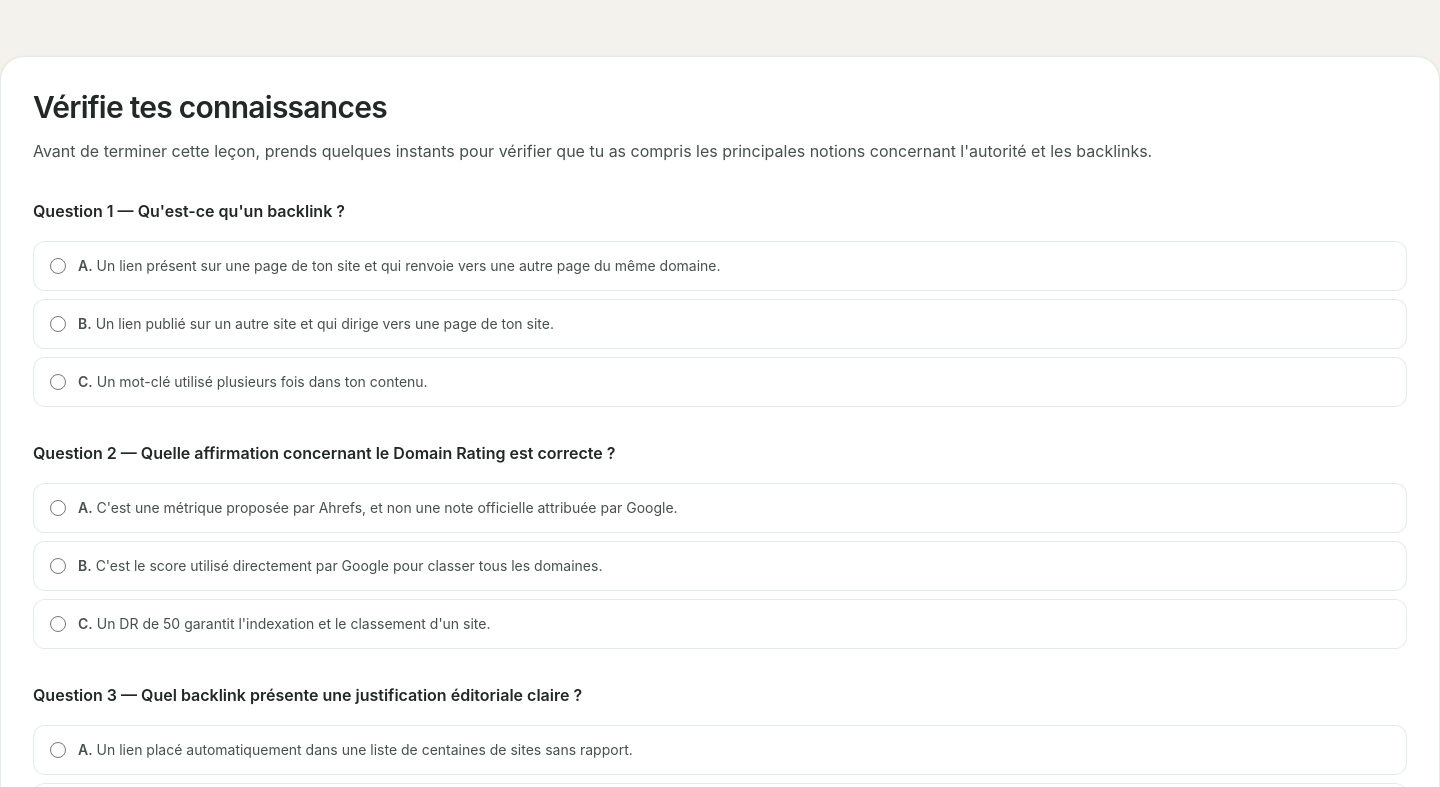
Test: questionnaire de la vingtième leçon SEO › corrige les quatre réponses après validation
Expected: the text "Question 4 : B." is not shown
Click the radio button named "quiz-question-1". click: (58, 324)
box: [50, 316, 66, 332]
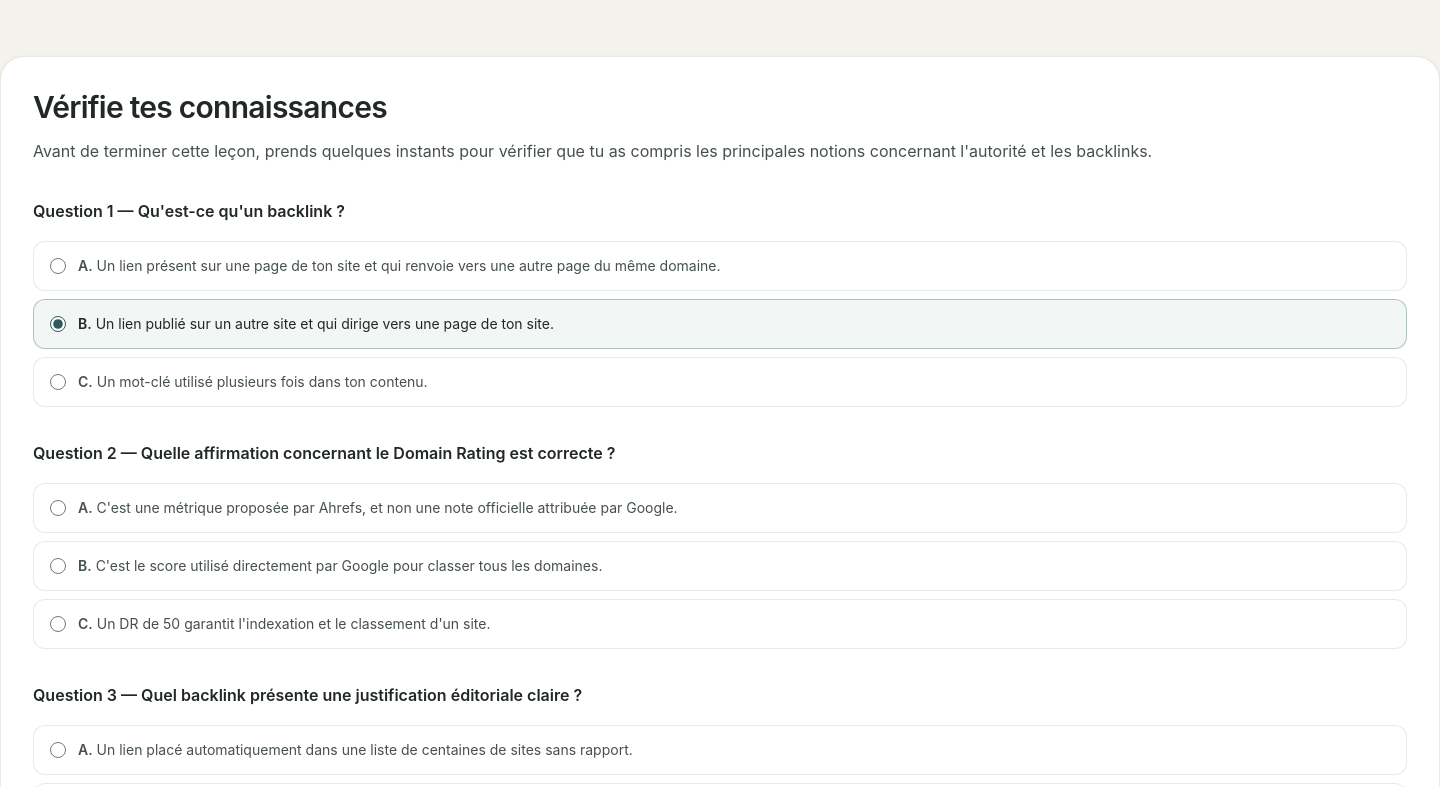
Click the radio button named "quiz-question-2". click: (58, 508)
box: [50, 500, 66, 516]
(page scrolled)
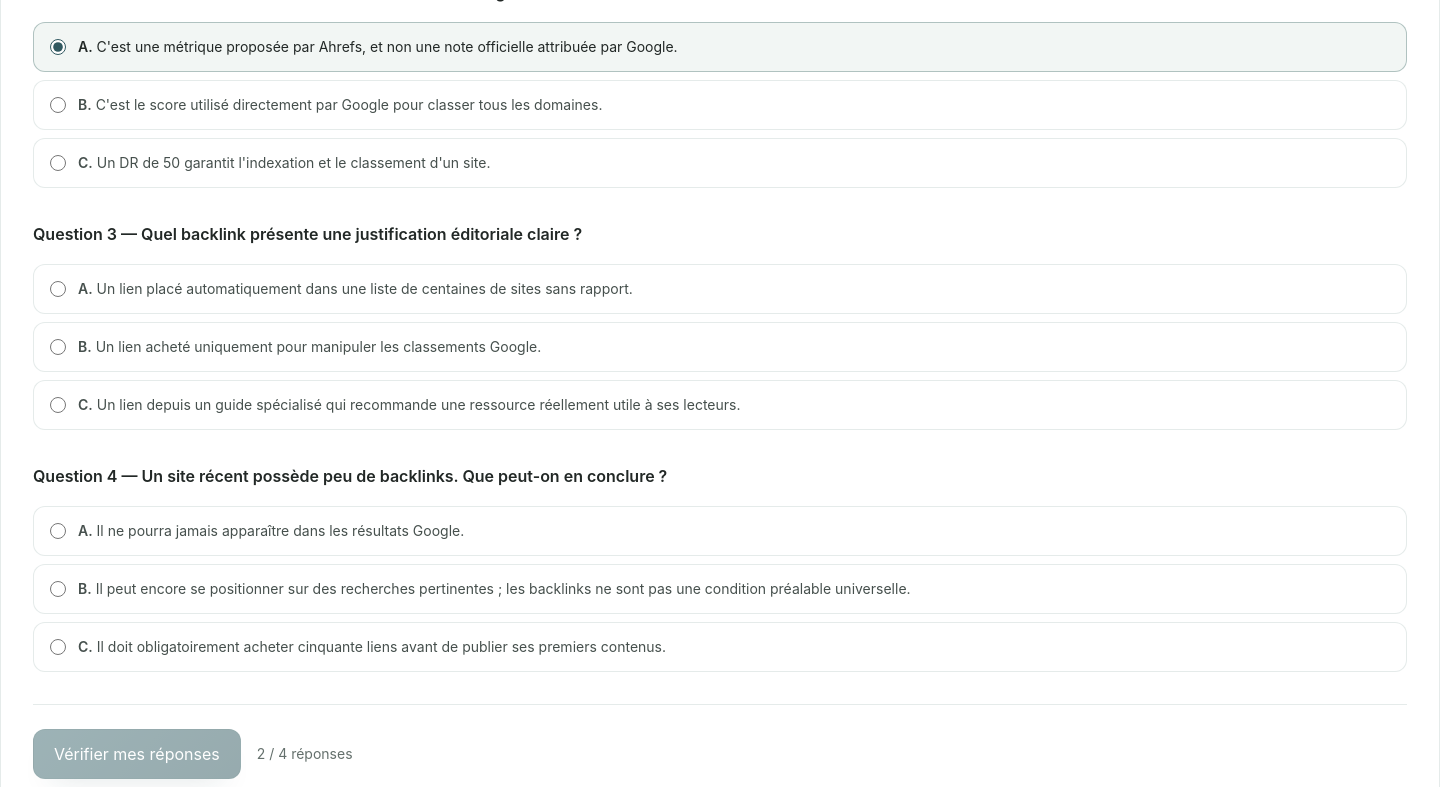
Click the radio button named "quiz-question-3". click: (58, 405)
box: [50, 397, 66, 413]
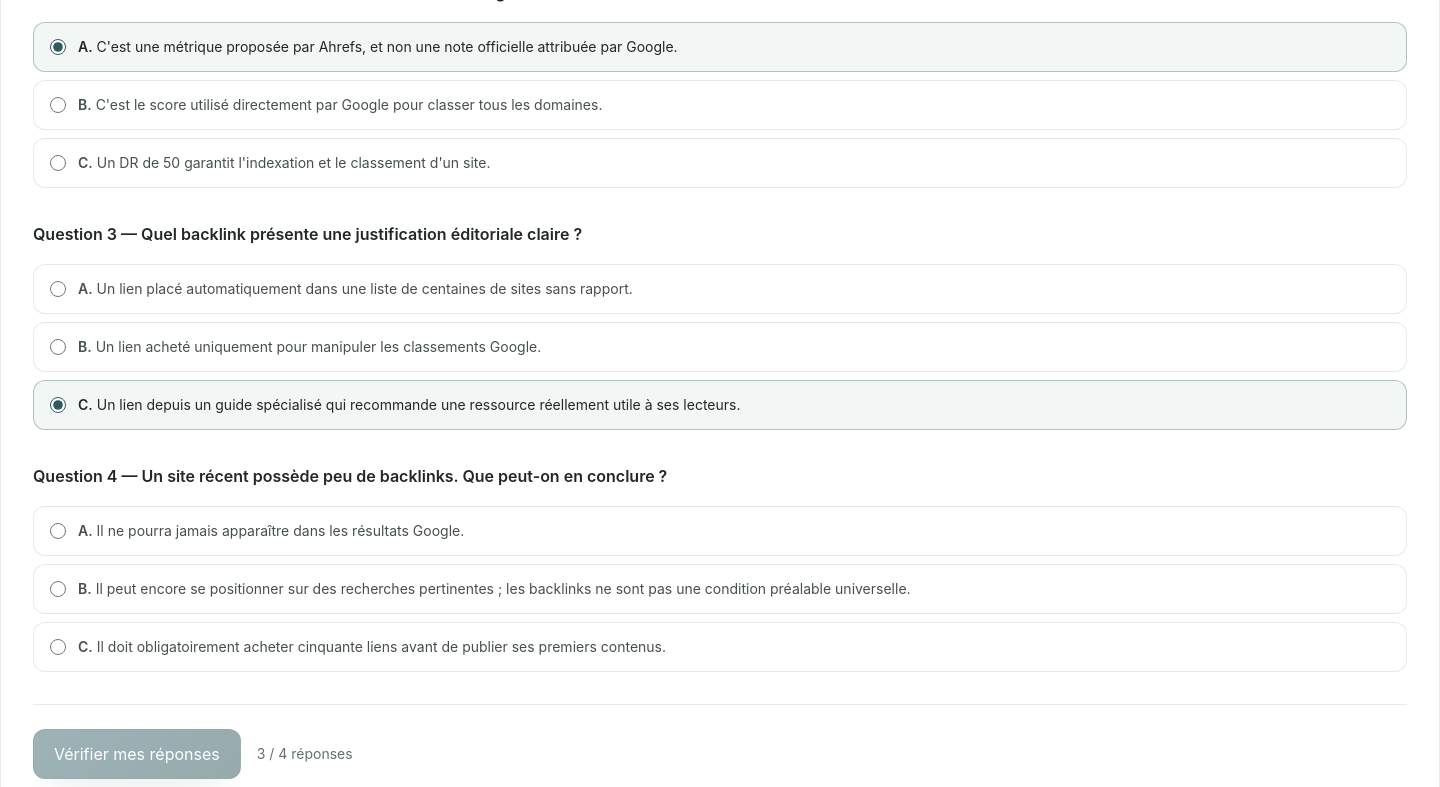
Click the radio button named "quiz-question-4". click: (58, 589)
box: [50, 581, 66, 597]
(page scrolled)
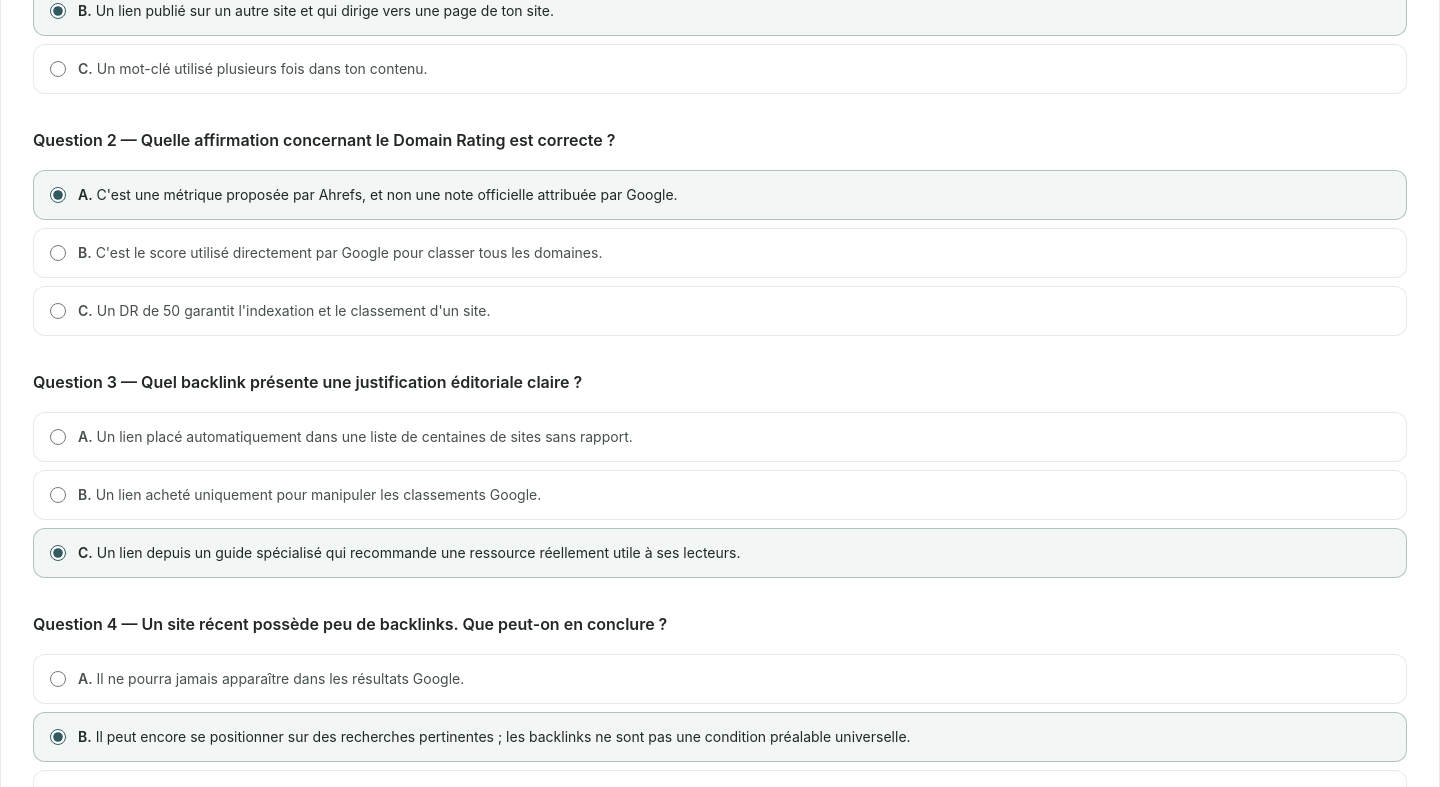
Submit the form
(page scrolled)
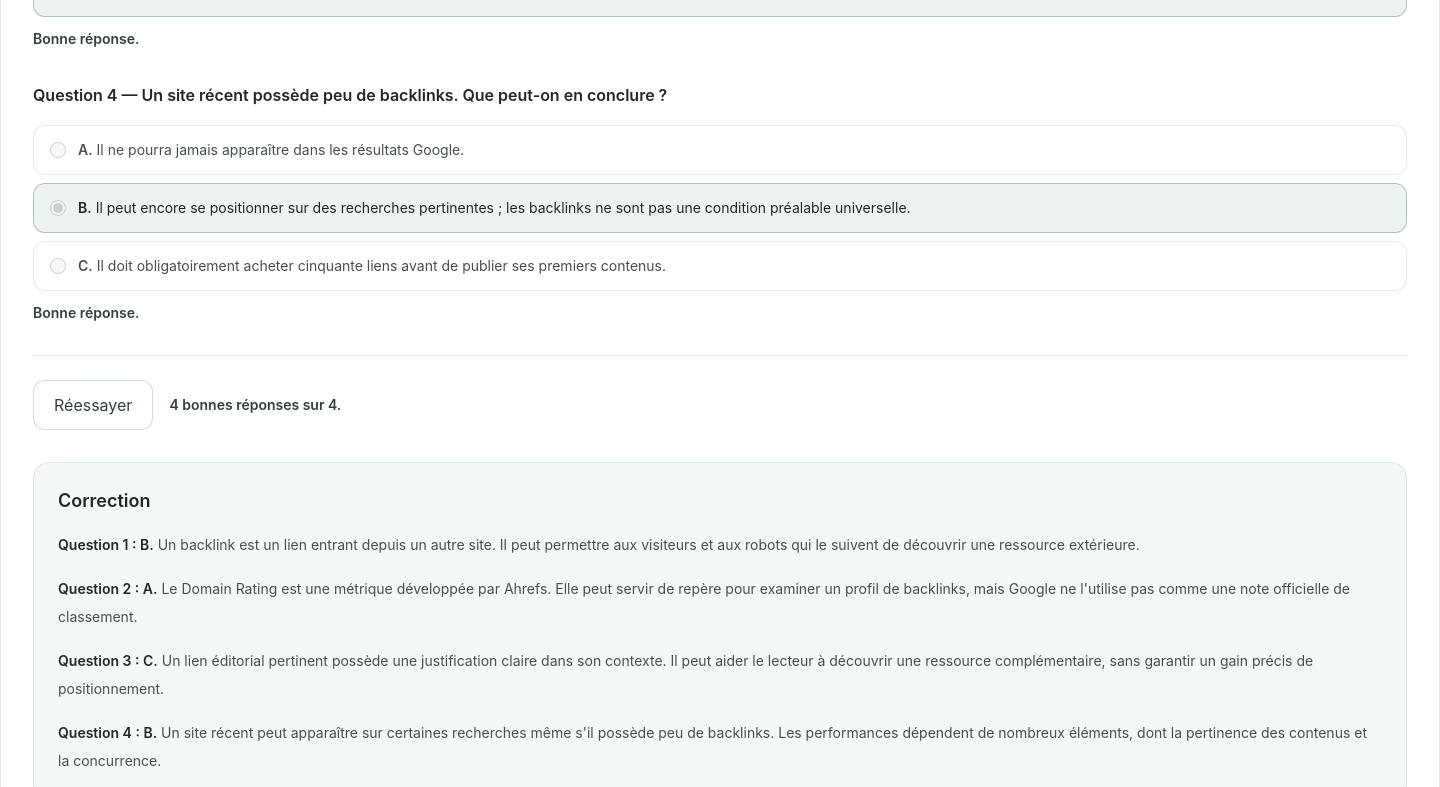
Result: the message "4 bonnes réponses sur 4." is shown at [169, 395, 341, 415]
Result: the text "Question 4 : B." is shown at [58, 724, 157, 741]
Result: the text "la pertinence des contenus et la concurrence" is shown at [58, 724, 1367, 769]
